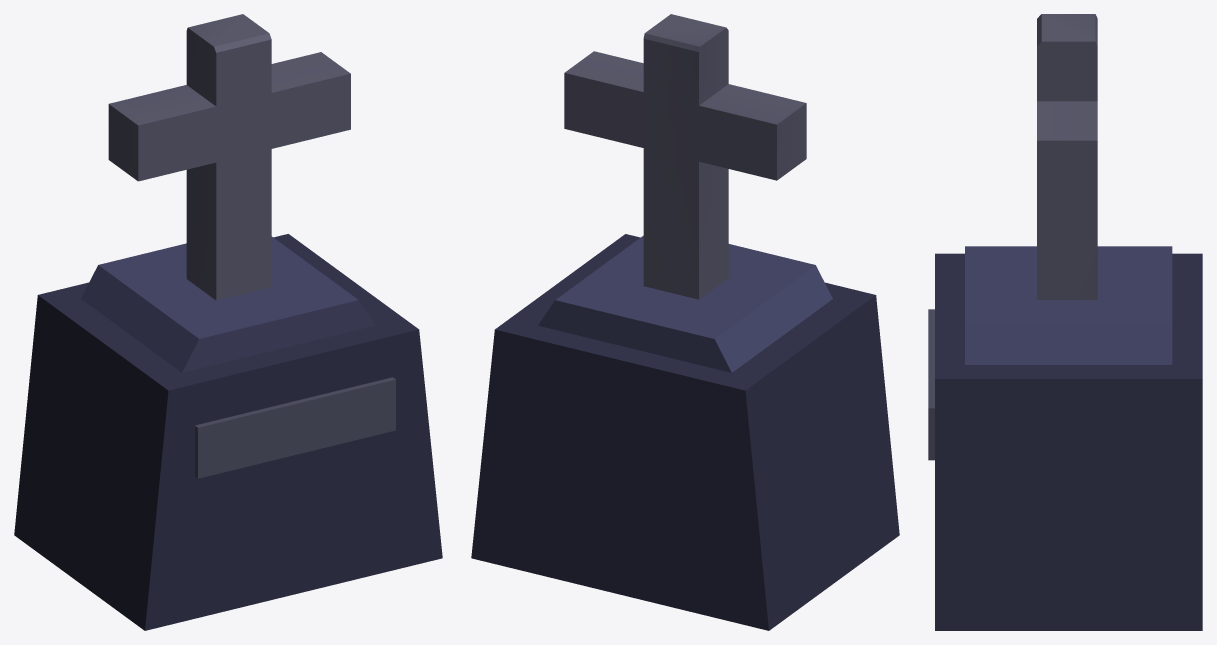
The model's file is CrossTombstone.fbx.
The picture shows the model from 3 angles, left to right: view 1: azimuth 30°, elevation 25°; view 2: azimuth 150°, elevation 25°; view 3: azimuth 270°, elevation 25°; orthographic projection. The views are drawn at different scales.
Parts seen in each view (by area): view 1: LapideCruz; view 2: LapideCruz; view 3: LapideCruz.
Part boxes in pixels (x1,y1,x2,y2): LapideCruz: (14, 14, 442, 630); LapideCruz: (471, 14, 899, 630); LapideCruz: (928, 14, 1202, 630).
Bounding box in the file's own units: 42.25 × 70 × 32.89.
